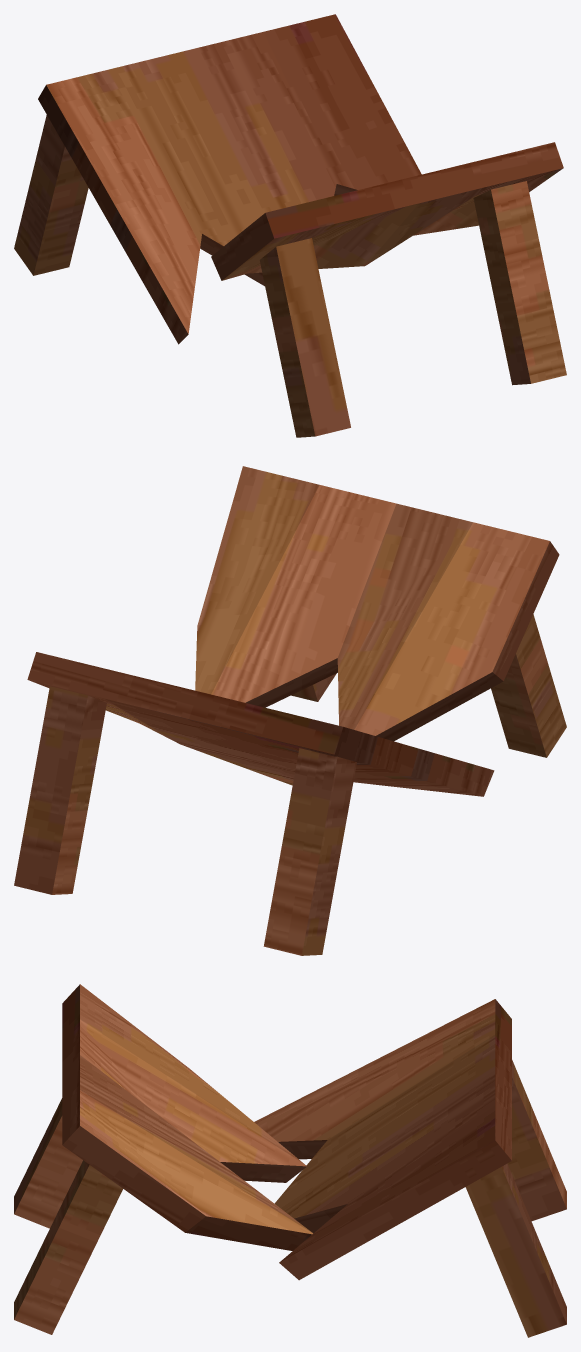
Rendered from table2.fbx.
3 renders of one model, top to bottom at view 1: azimuth 30°, elevation 25°; view 2: azimuth 150°, elevation 25°; view 3: azimuth 270°, elevation 25°, orthographic. The views are drawn at different scales.
Parts seen in each view (by area): view 1: table.002; view 2: table.002; view 3: table.002.
Boxes of the visible parts, bbox=[...] form: table.002: bbox=[14, 14, 566, 437]; table.002: bbox=[14, 466, 566, 955]; table.002: bbox=[14, 984, 566, 1337].
Size of the model in its own units: 916 by 651 by 1449.
Materials: 1 (1 with a texture image).
